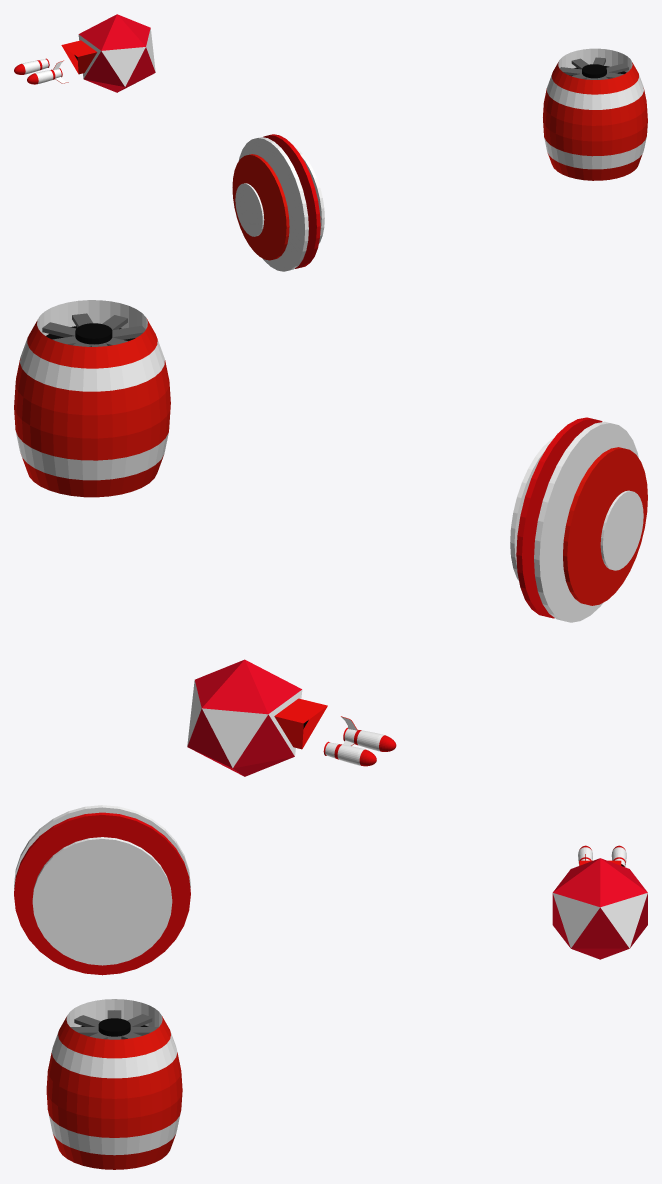
Rendered from джет пак2.0.dae.
The picture shows the model from 3 angles, top to bottom: view 1: azimuth 30°, elevation 25°; view 2: azimuth 150°, elevation 25°; view 3: azimuth 270°, elevation 25°; orthographic projection. The views are drawn at different scales.
Visible parts, largest first — view 1: Сфера, Икосфера, Цилиндр.003, Цилиндр.002, Цилиндр, Цилиндр.004, Куб.001, Сфера.001, Цилиндр.005, Сфера.002; view 2: Сфера, Икосфера, Цилиндр.003, Цилиндр.002, Цилиндр, Цилиндр.004, Куб.001, Цилиндр.005, Сфера.001, Сфера.002; view 3: Сфера, Цилиндр.005, Цилиндр, Икосфера, Куб.001, Цилиндр.002.
Boxes of the visible parts, x1,y1,x2,y2 form: Сфера: (543,48,647,180); Икосфера: (61,14,155,92); Цилиндр.003: (232,154,289,260); Цилиндр.002: (238,137,308,271); Цилиндр: (263,134,320,268); Цилиндр.004: (235,183,264,236); Куб.001: (559,57,628,79); Сфера.001: (27,60,68,84); Цилиндр.005: (296,148,324,243); Сфера.002: (14,58,49,74); Сфера: (14,300,170,497); Икосфера: (187,659,327,776); Цилиндр.003: (563,447,647,605); Цилиндр.002: (534,421,638,622); Цилиндр: (516,417,602,618); Цилиндр.004: (600,490,643,570); Куб.001: (42,313,145,346); Цилиндр.005: (510,438,553,580); Сфера.001: (341,716,396,751); Сфера.002: (323,741,376,766); Сфера: (46,999,182,1169); Цилиндр.005: (32,837,172,965); Цилиндр: (14,812,190,975); Икосфера: (552,858,647,959); Куб.001: (70,1010,158,1039); Цилиндр.002: (14,805,190,888).
Size of the model in its own units: 1.35 by 1.33 by 0.3715.
